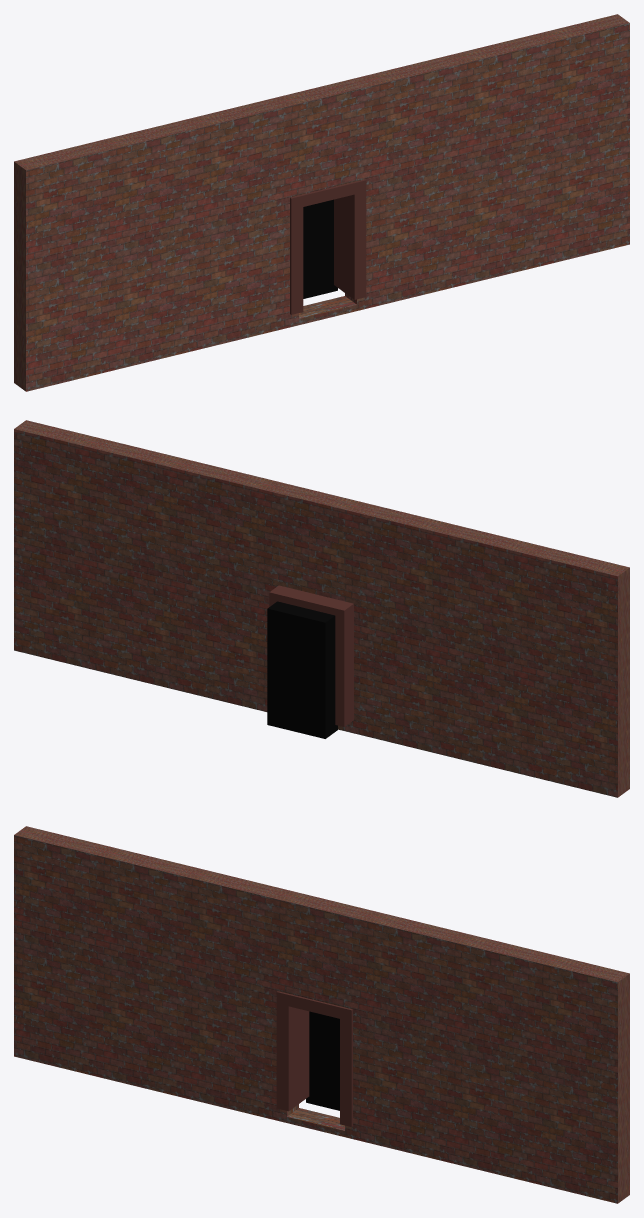
Rendered from Wall.glb.
The picture shows the model from 3 angles, top to bottom: view 1: azimuth 30°, elevation 25°; view 2: azimuth 150°, elevation 25°; view 3: azimuth 330°, elevation 25°; orthographic projection.
Parts seen in each view (by area): view 1: Cube.004, Cube.006, Cube.005; view 2: Cube.004, Cube.005, Cube.006; view 3: Cube.004, Cube.006, Cube.005.
Part boxes in pixels (x1,y1,x2,y2): Cube.004: (14, 14, 629, 391); Cube.006: (290, 179, 366, 314); Cube.005: (303, 199, 337, 298); Cube.004: (14, 420, 629, 797); Cube.005: (267, 601, 337, 738); Cube.006: (269, 585, 353, 726); Cube.004: (14, 826, 629, 1203); Cube.006: (276, 991, 352, 1126); Cube.005: (306, 1011, 339, 1110).
Size of the model in its own units: 14.27 by 5 by 1.34.
3 materials, 1 textured.
